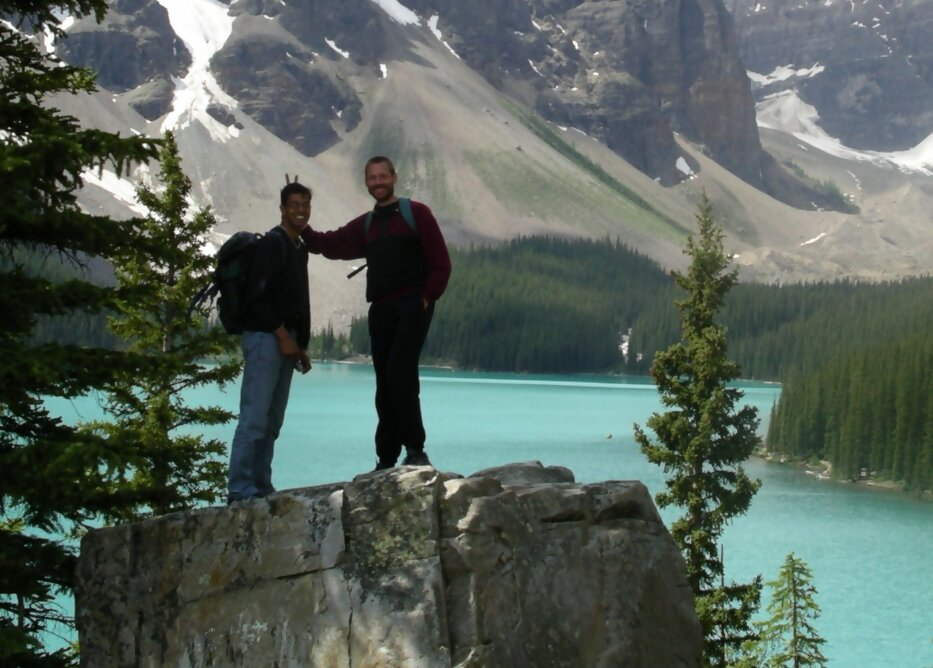person: (316, 156, 451, 467), (209, 172, 326, 502)
